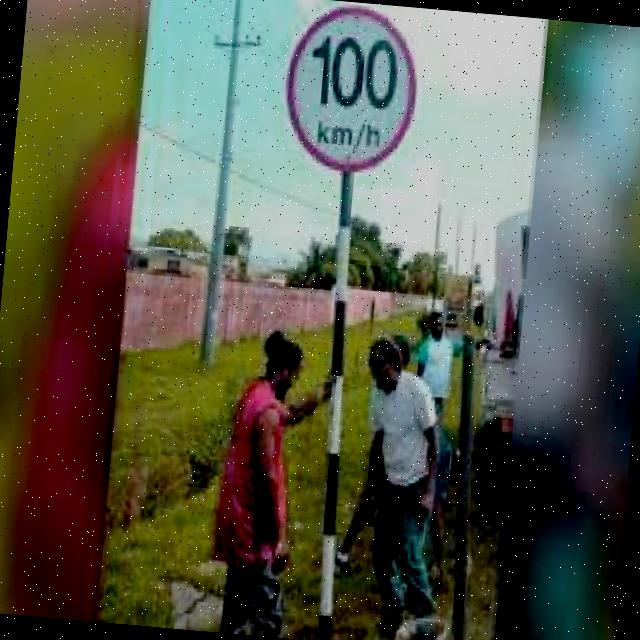Ograniczenie predkosci do 100: (282, 16, 414, 166)
